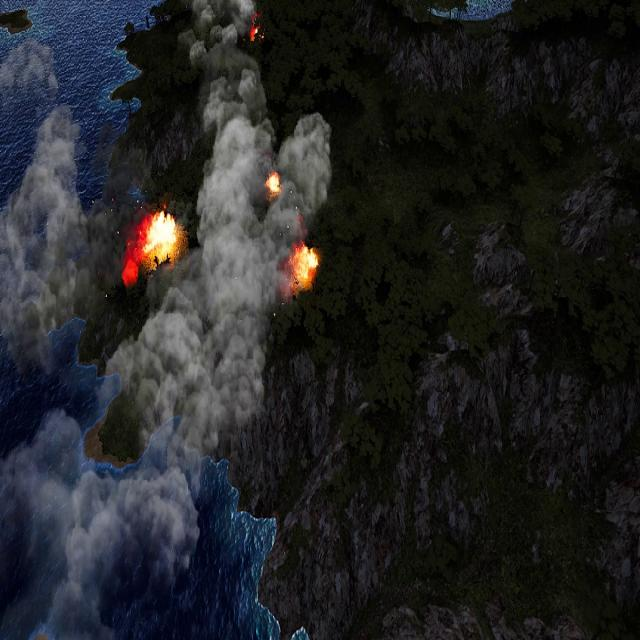fire: (142, 210, 179, 264), (288, 243, 319, 290), (264, 168, 282, 196), (250, 25, 260, 44)
smoke: (0, 2, 330, 640), (0, 110, 142, 378), (0, 37, 62, 93)
